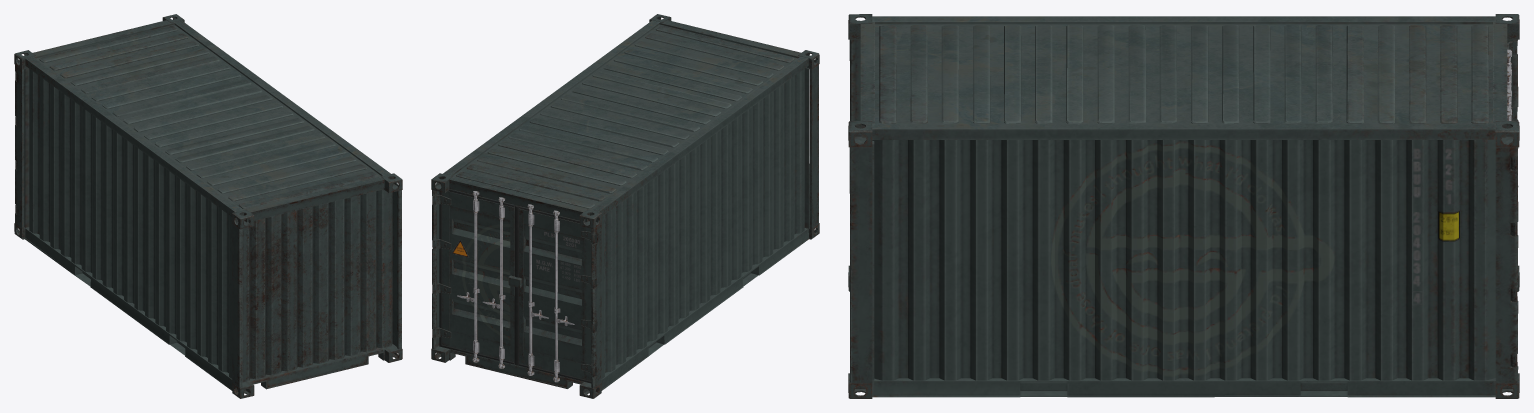
The model's file is Contener_Blue.fbx.
The picture shows the model from 3 angles, left to right: view 1: azimuth 30°, elevation 25°; view 2: azimuth 150°, elevation 25°; view 3: azimuth 270°, elevation 25°; orthographic projection. The views are drawn at different scales.
Visible parts, largest first — view 1: container__0; view 2: container__0; view 3: container__0.
Boxes of the visible parts, x1,y1,x2,y2 form: container__0: (14,14,402,398); container__0: (431,14,819,398); container__0: (848,14,1519,398).
Size of the model in its own units: 227 by 241 by 546.
Materials: 1 (1 with a texture image).
